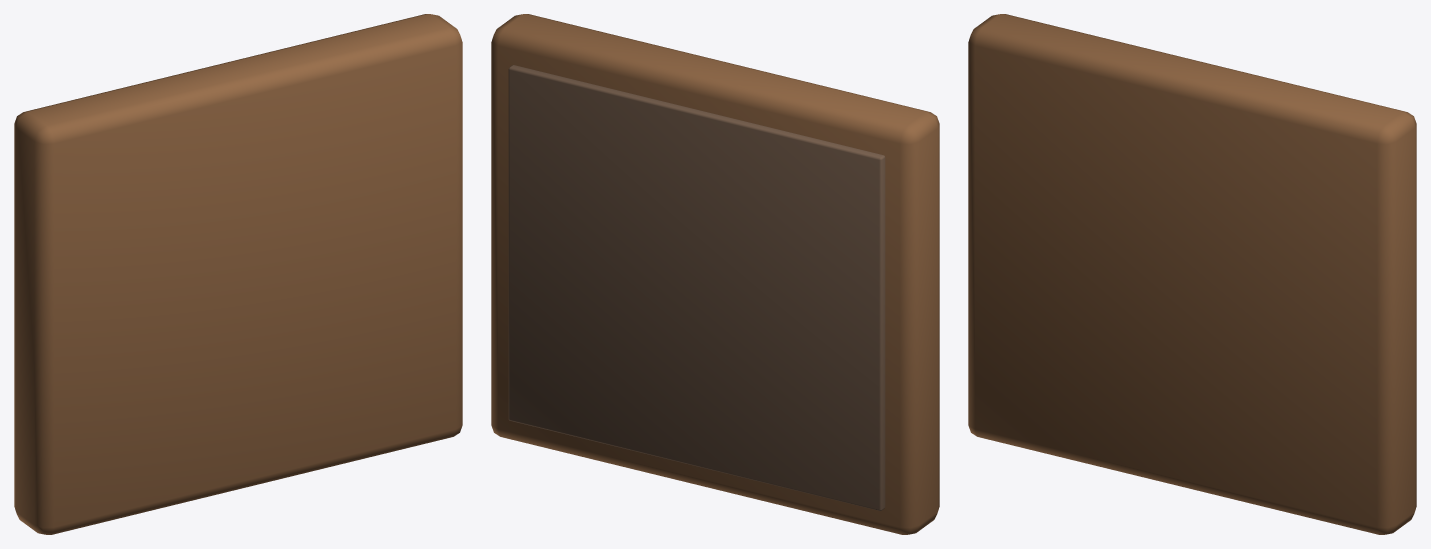
File: farm_plot_watered.glb
The picture shows the model from 3 angles, left to right: view 1: azimuth 30°, elevation 25°; view 2: azimuth 150°, elevation 25°; view 3: azimuth 330°, elevation 25°; orthographic projection.
Visible parts, largest first — view 1: Soil; view 2: WetSoil, Soil; view 3: Soil.
Part boxes in pixels (x1=…): Soil: x1=14, y1=14, x2=462, y2=534; WetSoil: x1=508, y1=65, x2=885, y2=510; Soil: x1=491, y1=14, x2=939, y2=534; Soil: x1=968, y1=14, x2=1416, y2=534.
Size of the model in its own units: 1.2 by 1.1 by 0.1825.
